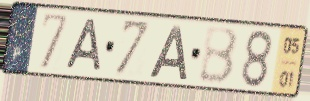7: (116, 17, 154, 79), (40, 10, 71, 72)
8: (239, 28, 274, 89)
A: (147, 22, 189, 81), (63, 17, 103, 74)
B: (197, 26, 241, 87)
